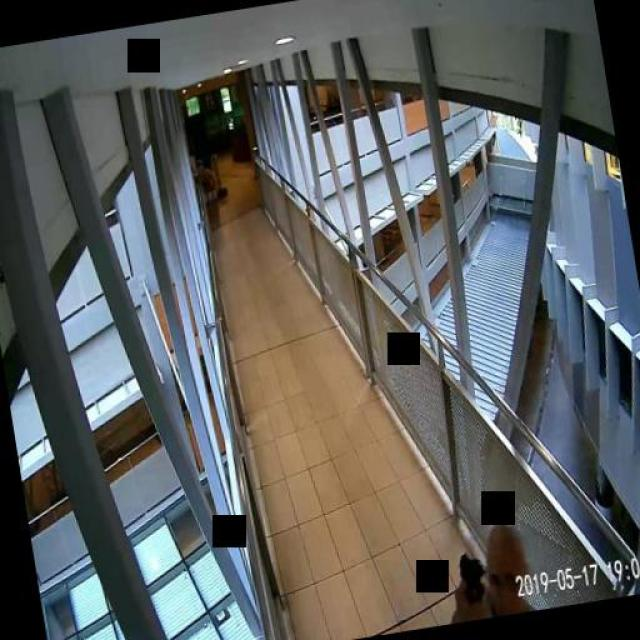gun: (451, 546, 490, 622)
